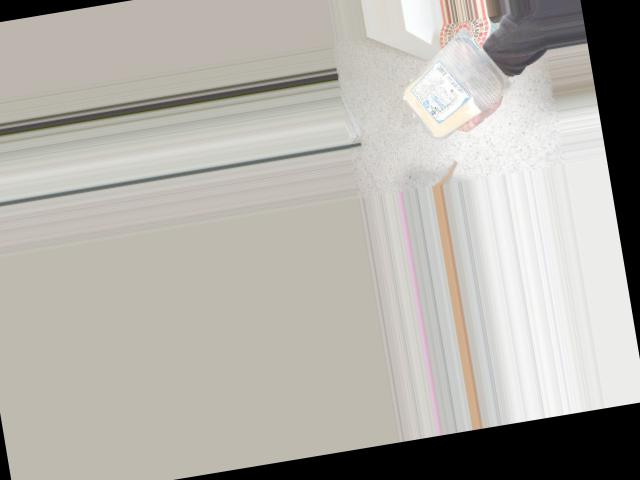cheese: (391, 33, 506, 137)
